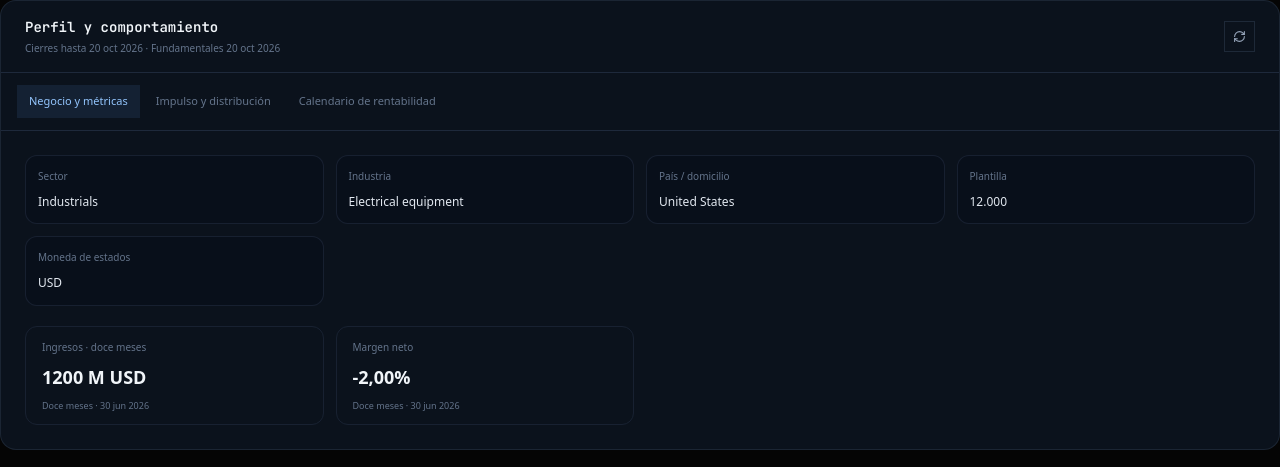
Test case: calendar marks a partial month and leaves unreported months empty instead of inventing zero returns
Step 1. Click the button "Calendario de rentabilidad" → (367, 101), box [287,85,448,118]
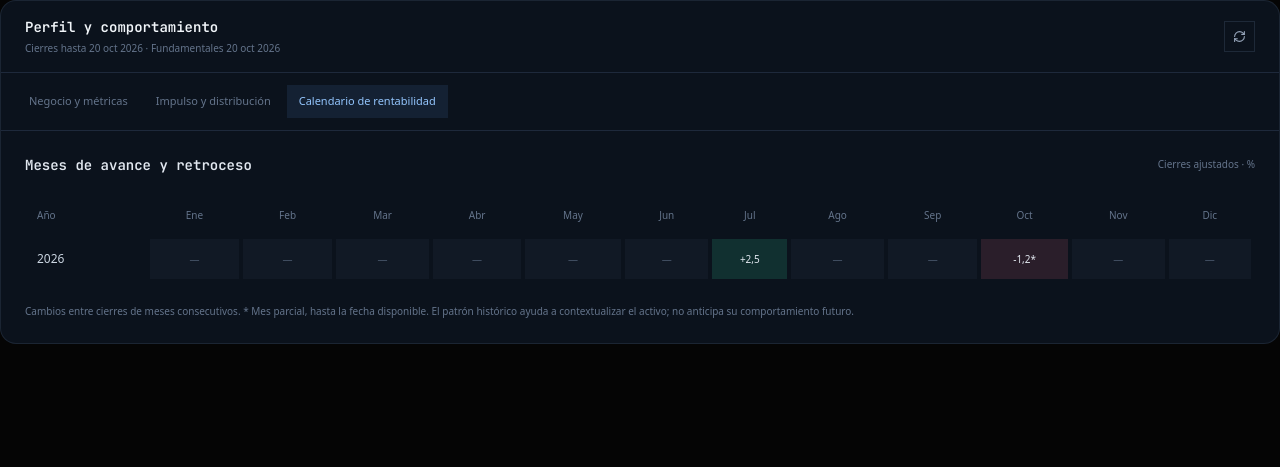
Expected: the number of cells is 12
Expected: the cell "+2,5" is shown, [712,238,787,278]
Expected: the cell "-1,2*" is shown, [981,238,1068,278]
